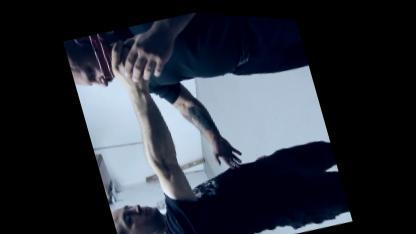pistol: (86, 24, 134, 82)
